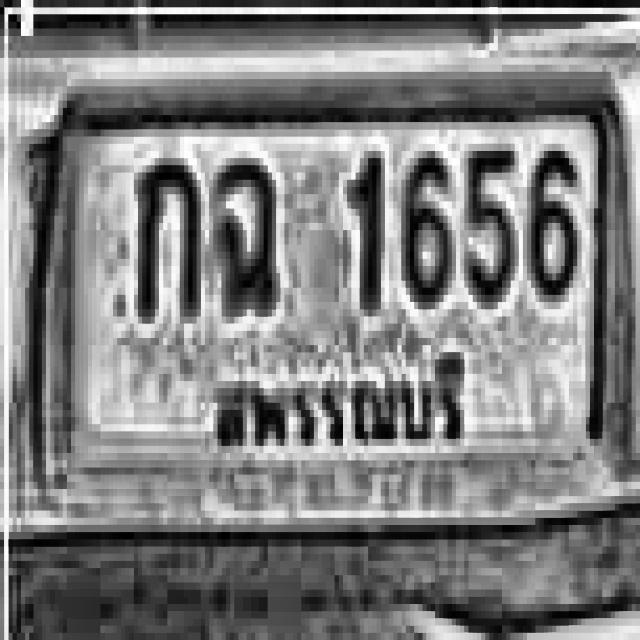license-plate: (37, 61, 640, 532)
